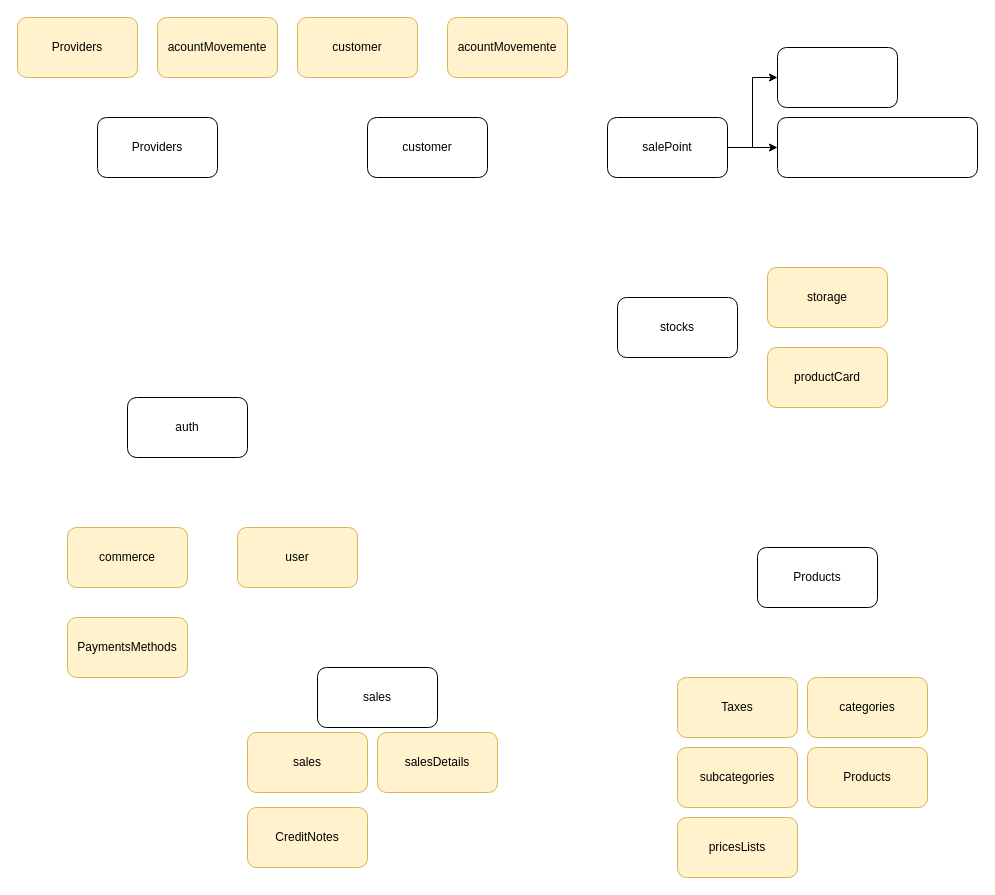
Image size: 995x895. Some labels were removed from this diagram. The centre of each missing label's shape, as x and y in pixels:
"cashRegisters" goes at (x=837, y=77).
"cashRegistersMovements" goes at (x=877, y=147).
